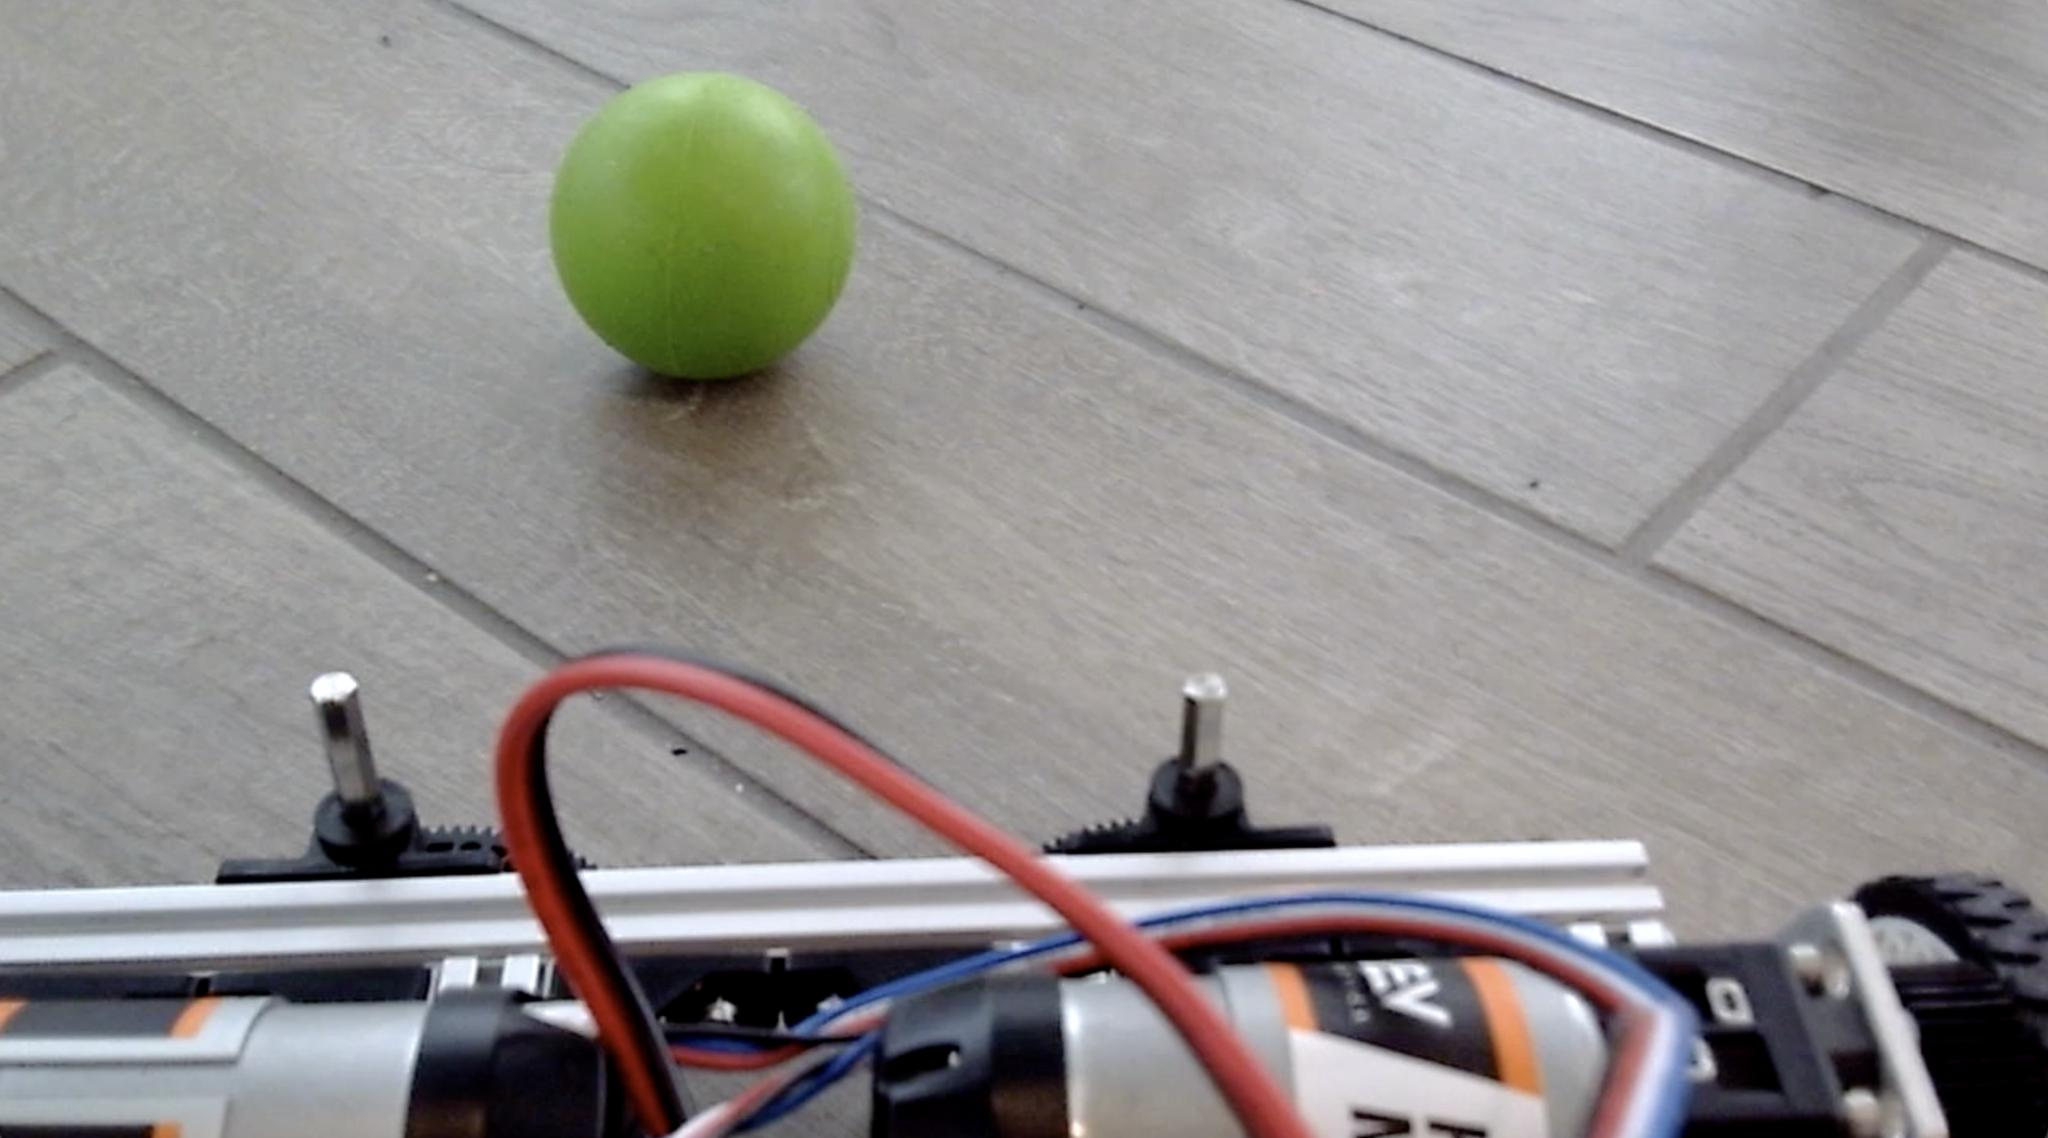greenball: (545, 66, 857, 384)
